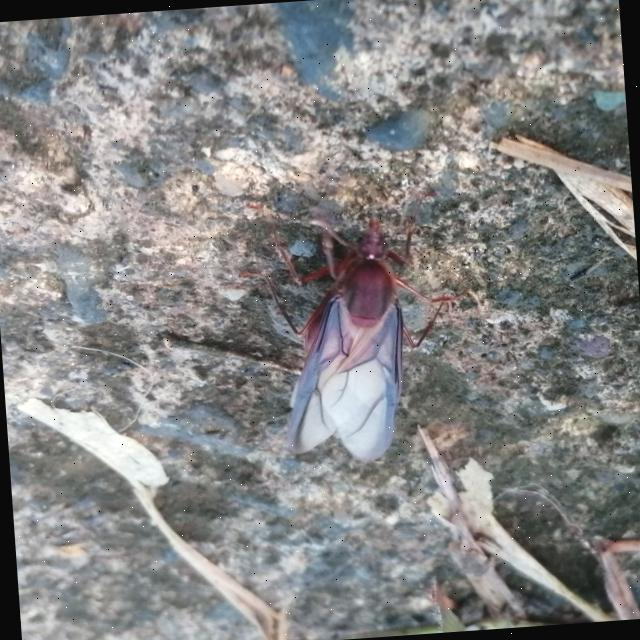Alive-Male-Alate: (230, 185, 482, 471)
